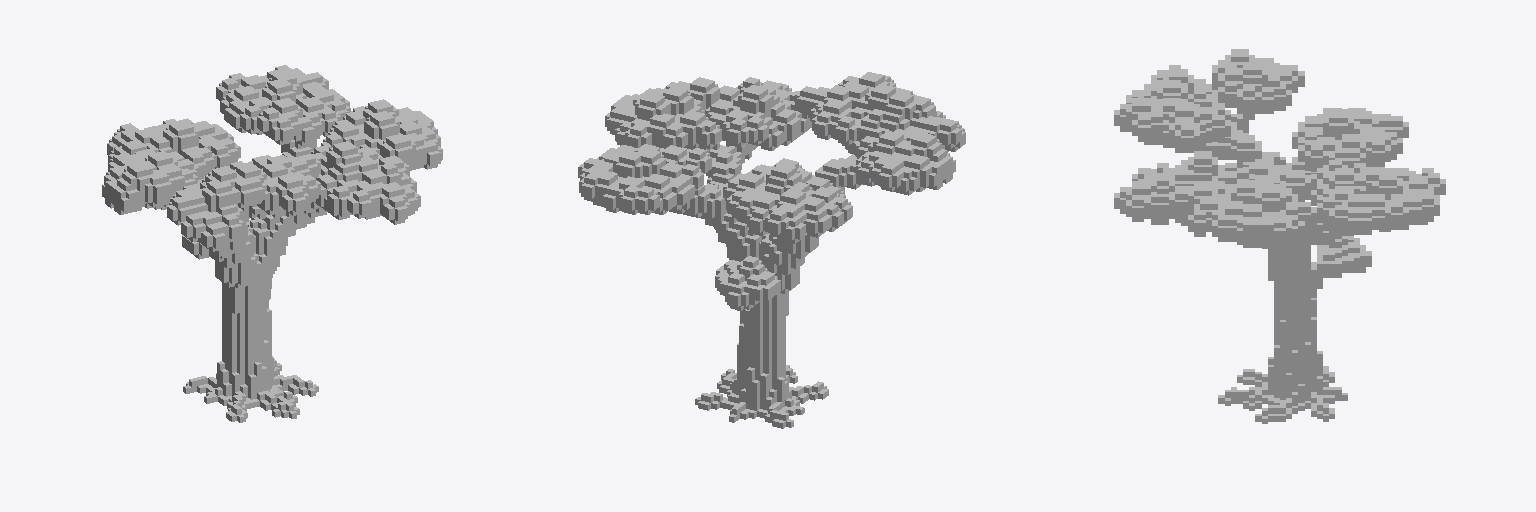
File: Tree2.obj
3 renders of one model, left to right at view 1: azimuth 30°, elevation 25°; view 2: azimuth 150°, elevation 25°; view 3: azimuth 270°, elevation 25°, orthographic.
Parts seen in each view (by area): view 1: object 1; view 2: object 1; view 3: object 1.
Part boxes in pixels (x1,y1,x2,y2): object 1: (102, 65, 442, 422); object 1: (578, 72, 965, 428); object 1: (1114, 49, 1445, 423).
Size of the model in its own units: 6 by 5.1 by 5.4.